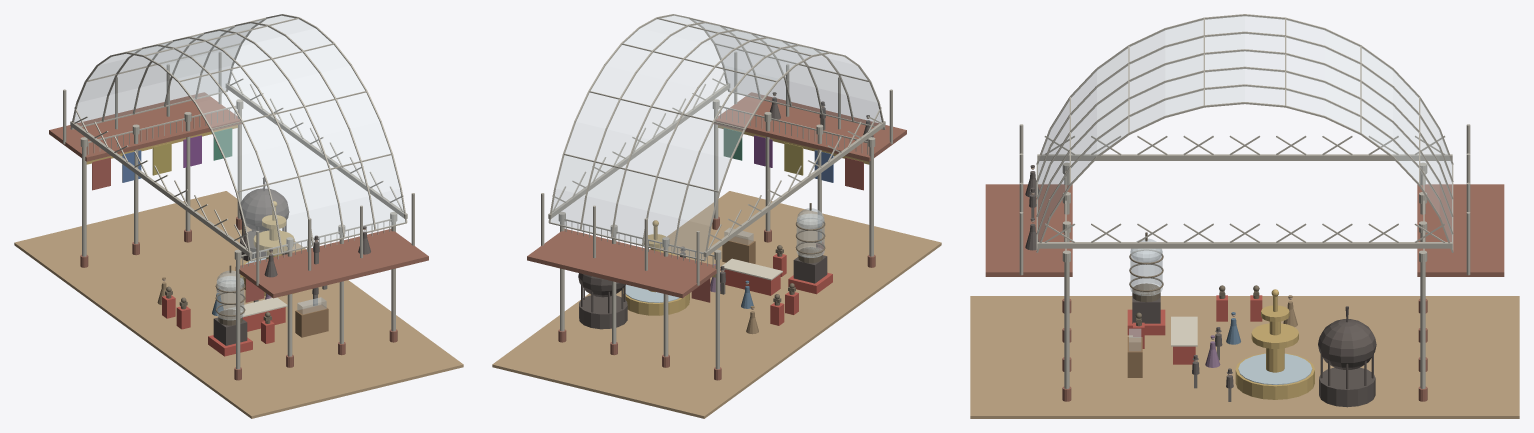
The model's file is scan-fig21-british-nave-muse.glb.
The picture shows the model from 3 angles, left to right: view 1: azimuth 30°, elevation 25°; view 2: azimuth 150°, elevation 25°; view 3: azimuth 270°, elevation 25°; orthographic projection. The views are drawn at different scales.
Visible parts, largest first — view 1: VaultGlass, Floor, GallerySlab, GallerySlab.001, PavDome, TieBeam, TieBeam.001, Case, LensDrum, LensStand, Banner.007, Column.005 (+12 smaller); view 2: VaultGlass, Floor, GallerySlab.001, GallerySlab, TieBeam, PavBase, TieBeam.001, LensDrum, DisplayTable, FountainBasin, Case, LensStand (+15 smaller); view 3: Floor, VaultGlass, GallerySlab.001, GallerySlab, TieBeam.001, TieBeam, PavDome, PavBase, FountainWater, FountainBasin, LensDrum, FountainTier1 (+6 smaller).
Part boxes in pixels (x1,y1,x2,y2): VaultGlass: (74,15,405,259); Floor: (14,191,463,418); GallerySlab: (235,229,428,298); GallerySlab.001: (49,92,241,161); PavDome: (239,188,289,232); TieBeam: (70,121,252,256); TieBeam.001: (226,83,407,219); Case: (295,304,328,337); LensDrum: (216,276,244,320); LensStand: (213,317,247,345); Banner.007: (152,142,171,175); Column.005: (185,112,190,231); VaultGlass: (550,15,881,259); Floor: (492,191,941,418); GallerySlab.001: (527,229,720,298); GallerySlab: (714,92,906,161); TieBeam: (703,121,885,256); PavBase: (579,295,627,329); TieBeam.001: (548,83,729,219); LensDrum: (796,214,824,257); DisplayTable: (724,269,780,295); FountainBasin: (623,288,689,315); Case: (722,236,755,263); LensStand: (793,255,827,283); Floor: (970,296,1519,418); VaultGlass: (1037,16,1452,241); GallerySlab.001: (1417,184,1504,276); GallerySlab: (985,184,1072,276); TieBeam.001: (1037,242,1452,248); TieBeam: (1037,154,1452,160); PavDome: (1318,319,1376,369); PavBase: (1319,367,1375,407); FountainWater: (1238,353,1312,384); FountainBasin: (1235,353,1314,399); LensDrum: (1130,249,1162,295); FountainTier1: (1251,323,1298,348).
Bounding box in the file's own units: 14.97 × 17.52 × 29.
